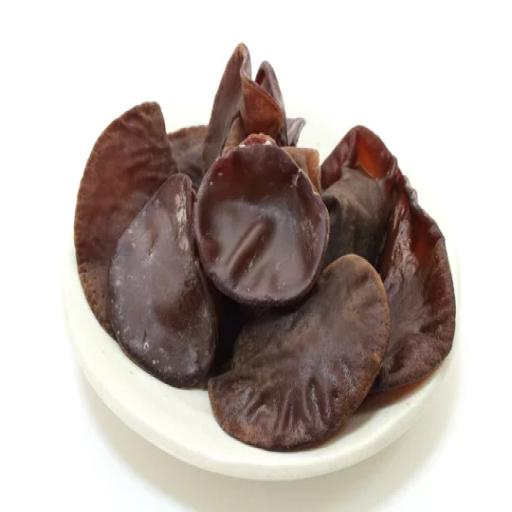Wood Ear Mushroom: (67, 39, 457, 450)
